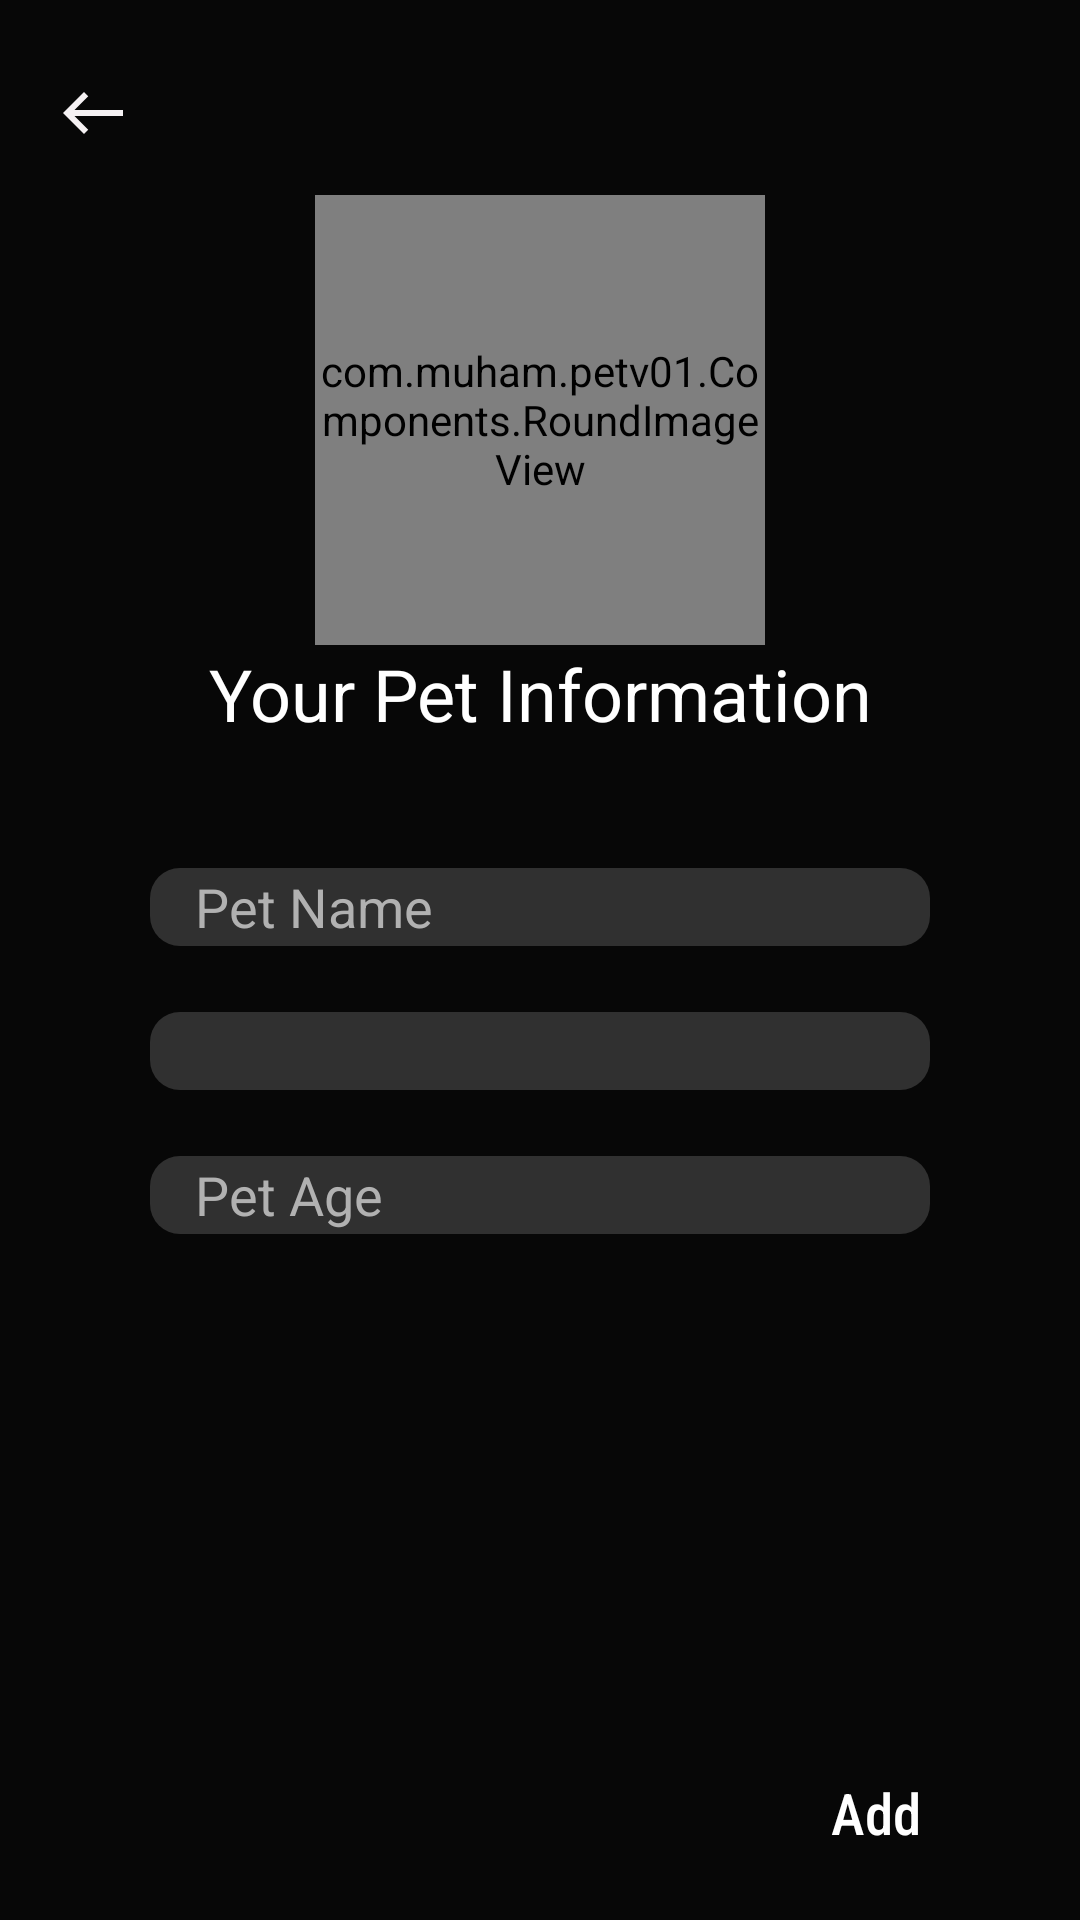

Icon click points for this 1080px x 1920px phone screenshot, format (x,y):
west: (93,113)
